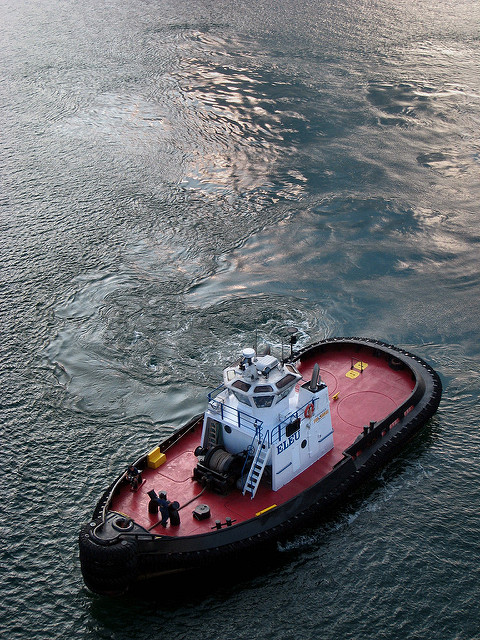tug_boat: (78, 339, 445, 582)
